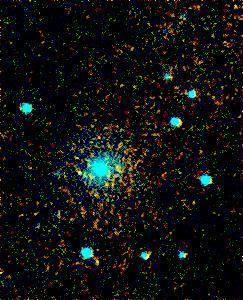star: (66, 157, 96, 187)
